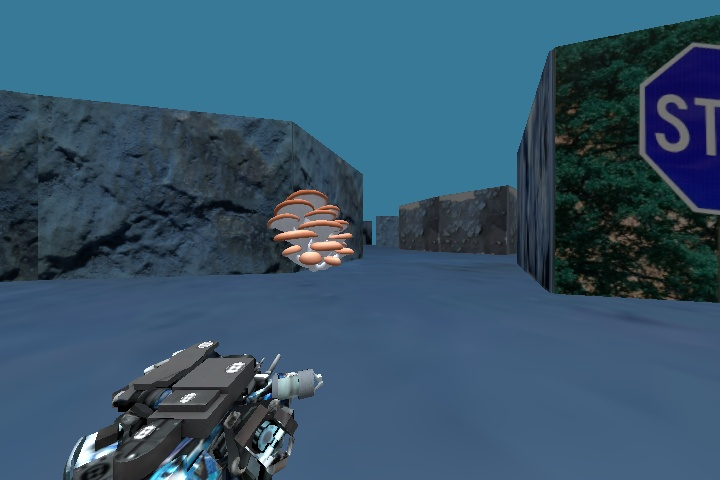stop_sign: (632, 26, 720, 224)
white_sphere: (261, 181, 363, 278)
